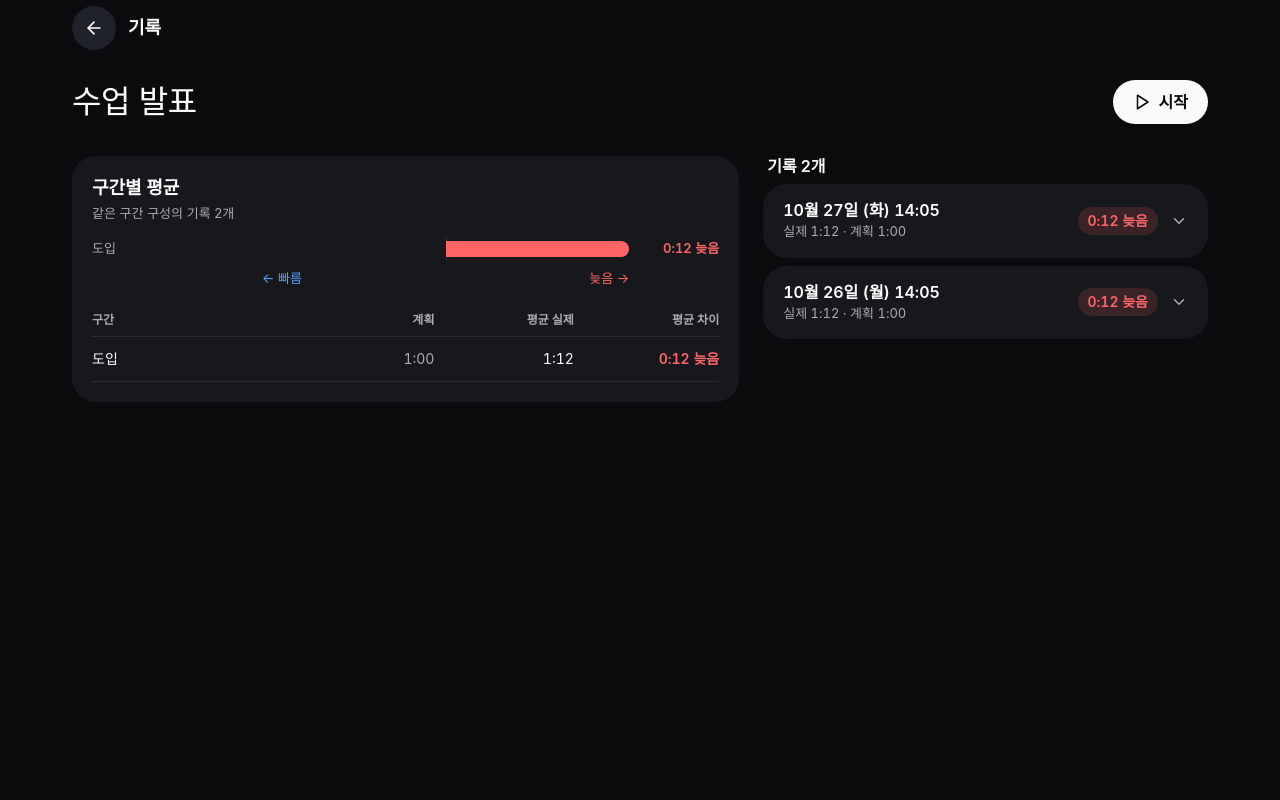
RecordsView › keeps records and averages unchanged when deletion is cancelled
The width and height of the screenshot is (1280, 800).
What coordinates should you click on to do the following:
click the button "10월 27일 (화) 14:05 실제 1:12 · 계획 1:00 0:12 늦음"
I would click on:
 (862, 210)
Its box is [763,184,1208,258].
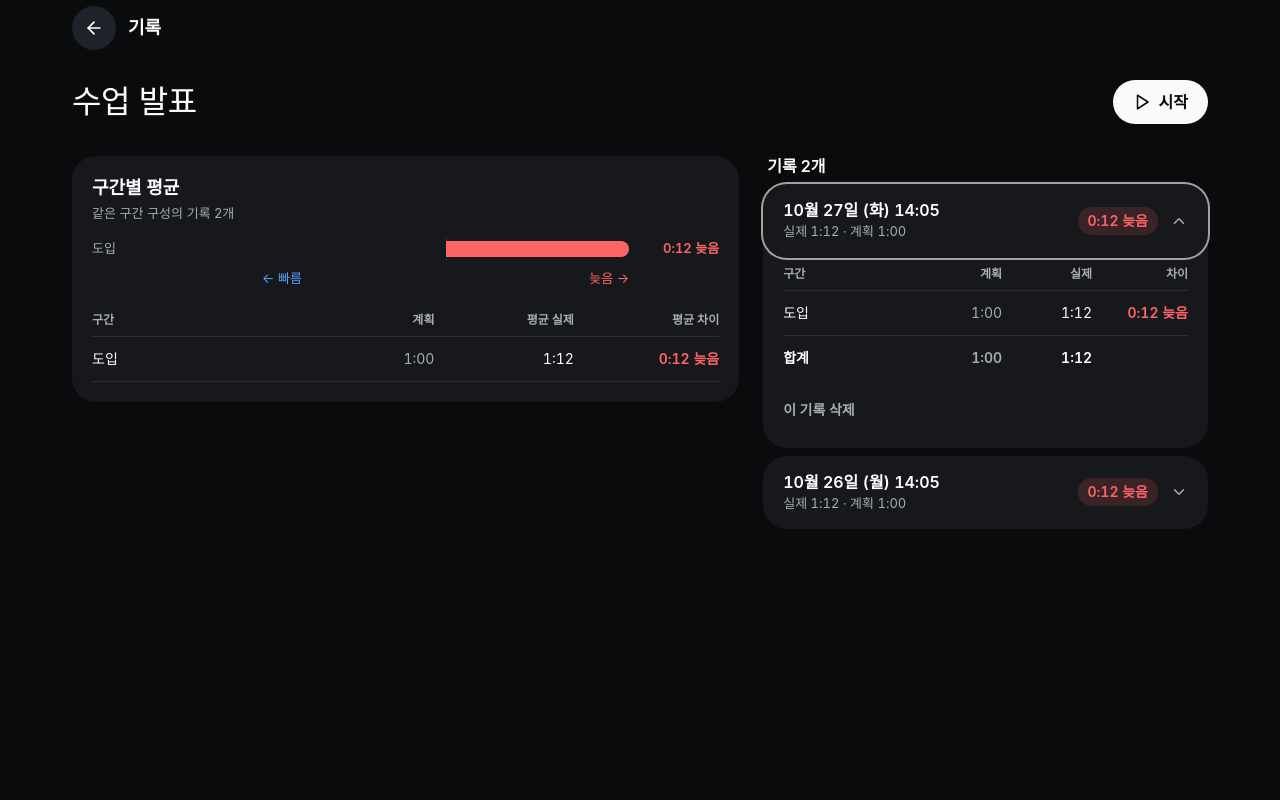
What coordinates should you click on to do the following:
click the button "이 기록 삭제"
I would click on:
 (819, 410)
Its box is [783,388,855,432].
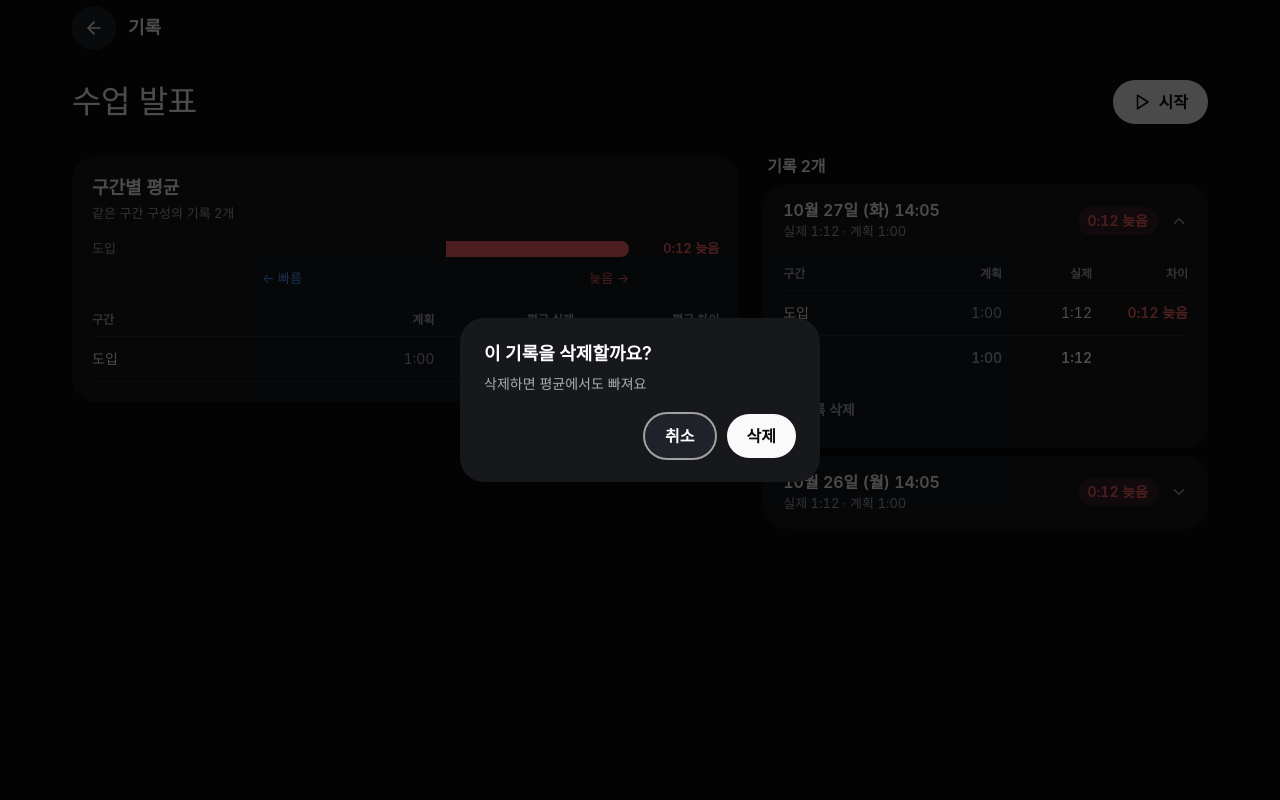
What coordinates should you click on to do the following:
click the button "취소"
I would click on:
 (680, 436)
Its box is [645,414,715,458].
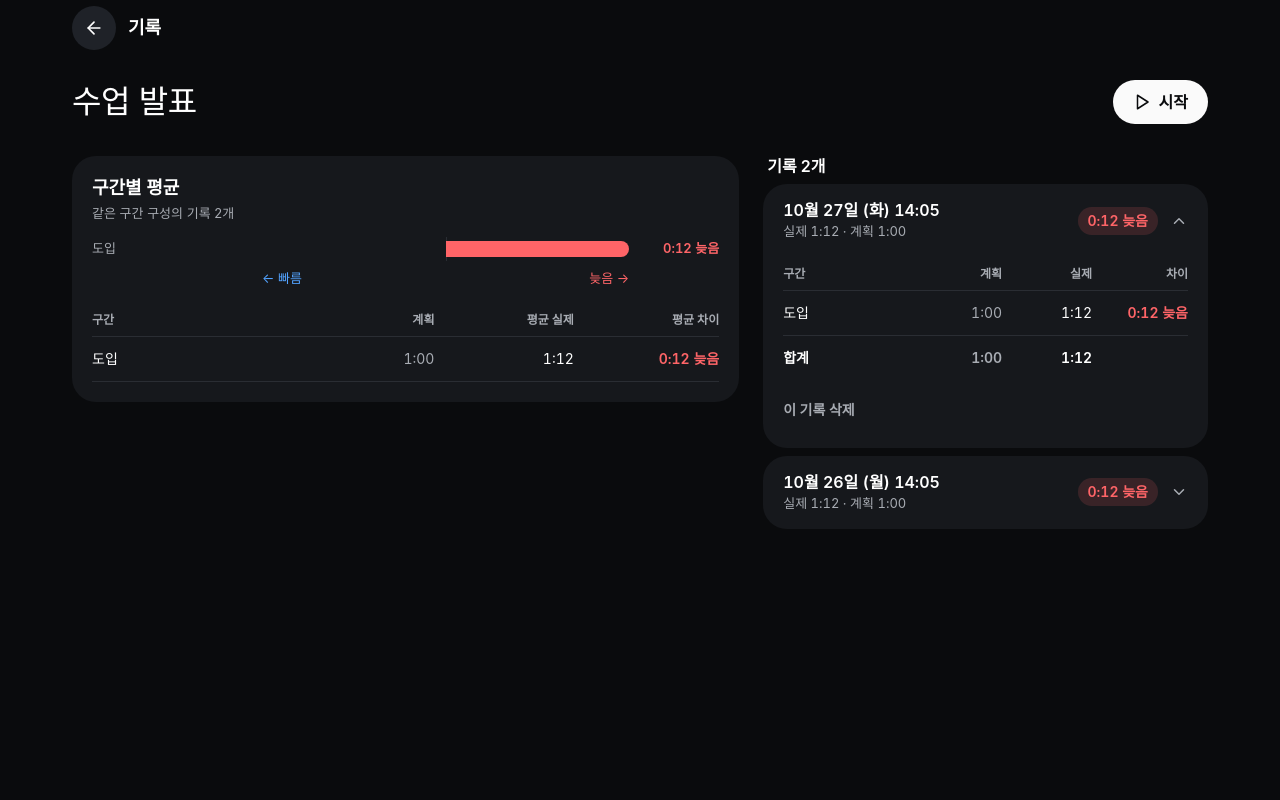
Check: the number of buttons "10월 27일 (화) 14:05 실제 1:12 · 계획 1:00 0:12 늦음" is 2, box [763,184,1208,258]; [763,456,1208,529]
Check: the dialog is gone
